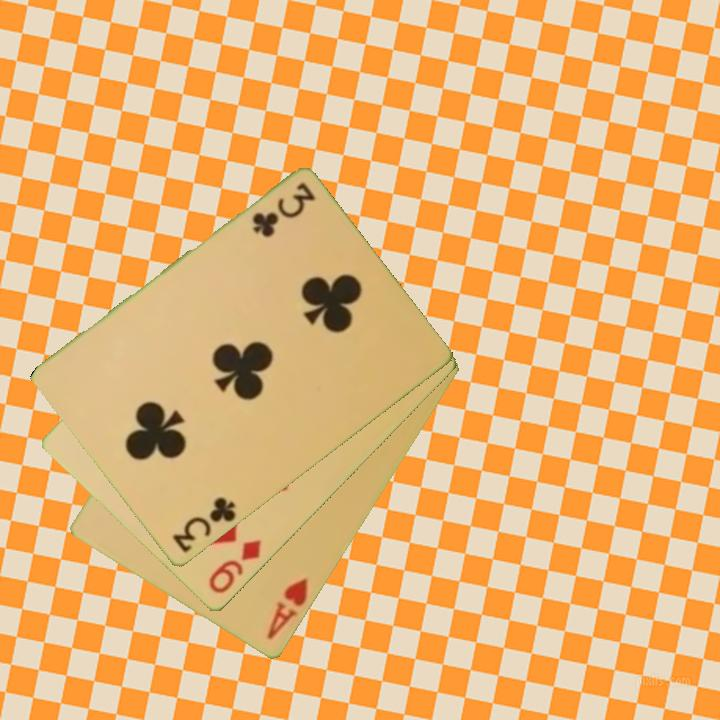3c: (168, 493, 239, 556), (248, 179, 318, 240)
9d: (205, 536, 265, 597)
Ah: (263, 575, 311, 644)
